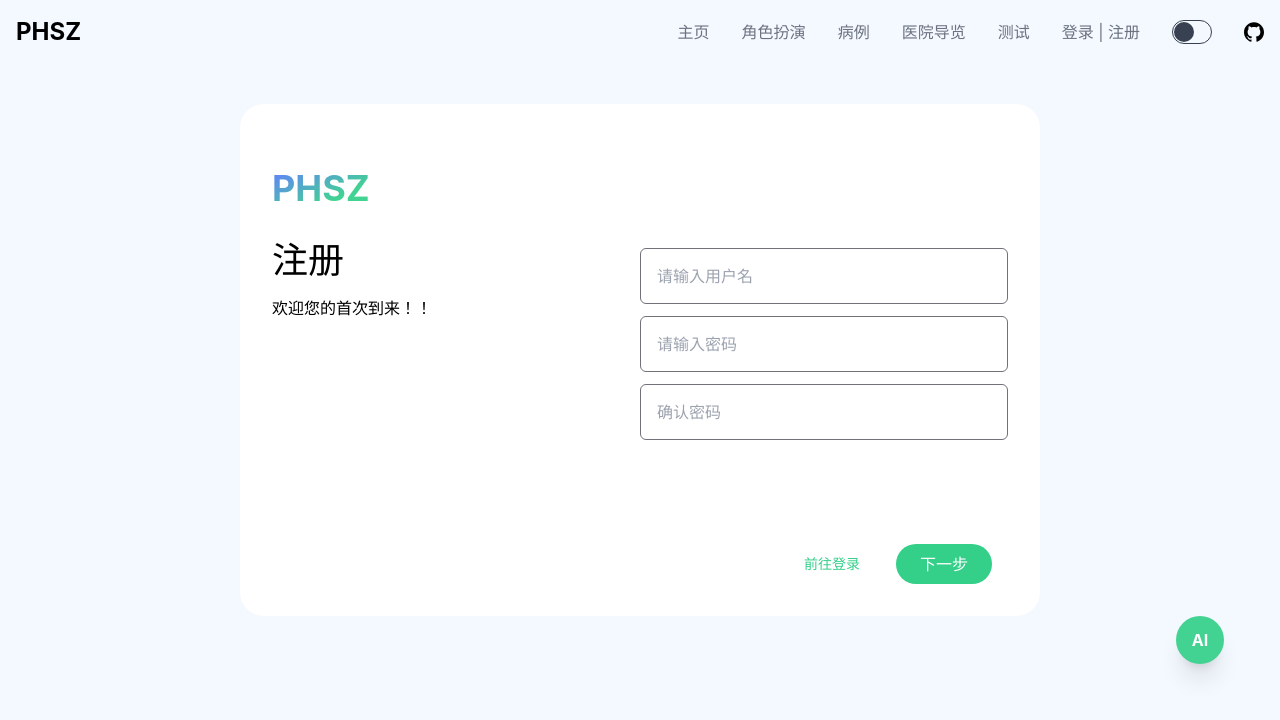
Test case: Register Test › Password not same
The width and height of the screenshot is (1280, 720).
Expected: the link "登录 | 注册" is shown, x1=1062 y1=22 x2=1140 y2=42
Type "admin" into the field with placeholder "请输入用户名" at (824, 276), box x1=640 y1=248 x2=1008 y2=304
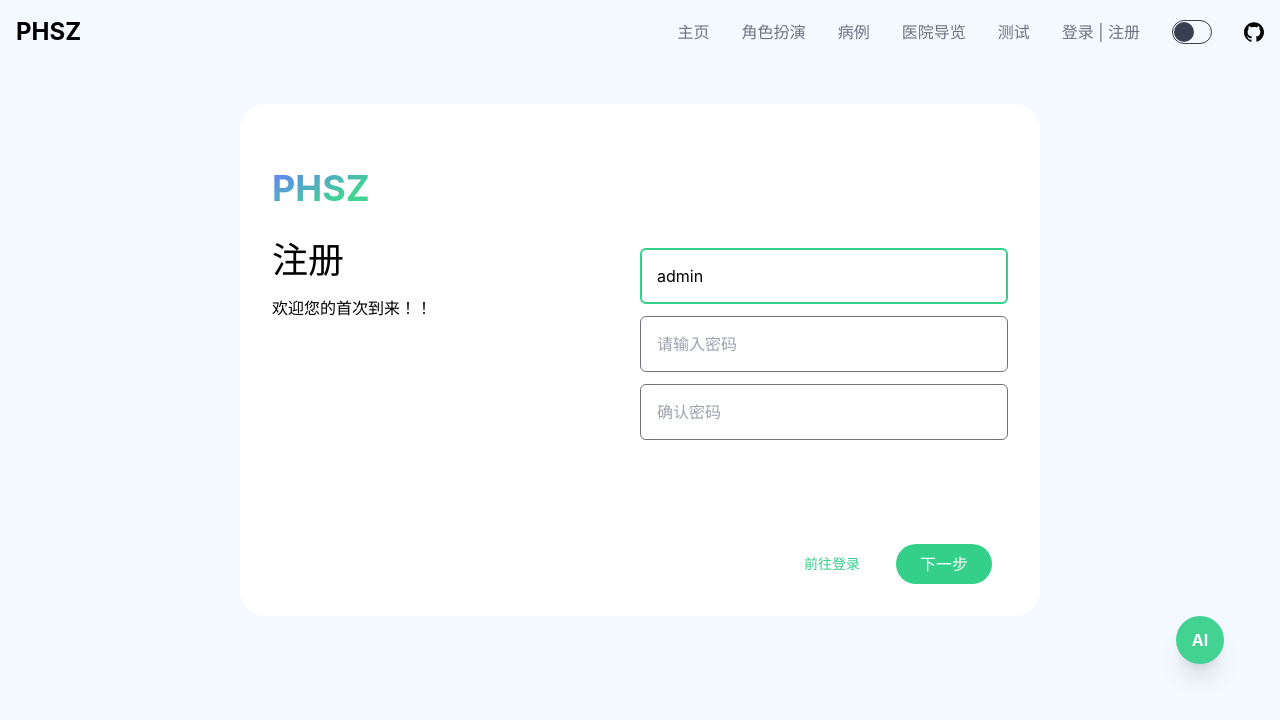
Type "admin" into the password field with placeholder "请输入密码" at (824, 344), box x1=640 y1=316 x2=1008 y2=372
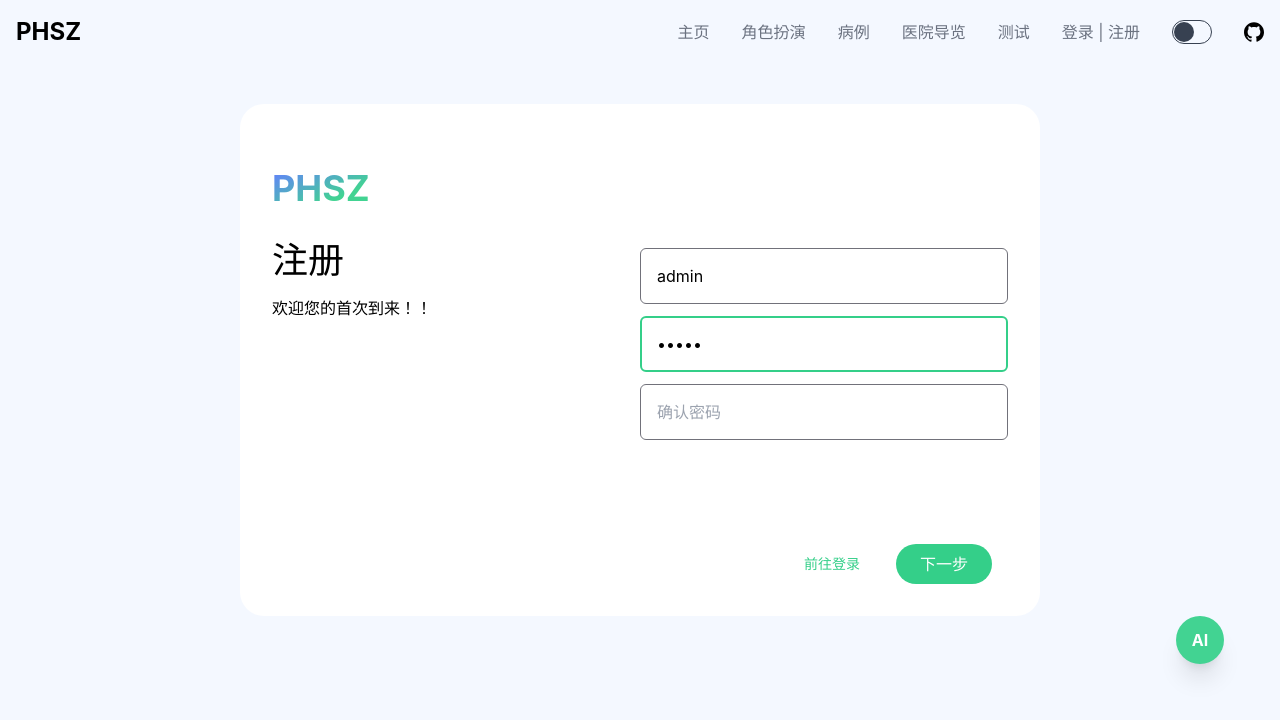
Type "admin1" into the password field with placeholder "确认密码" at (824, 412), box x1=640 y1=384 x2=1008 y2=440
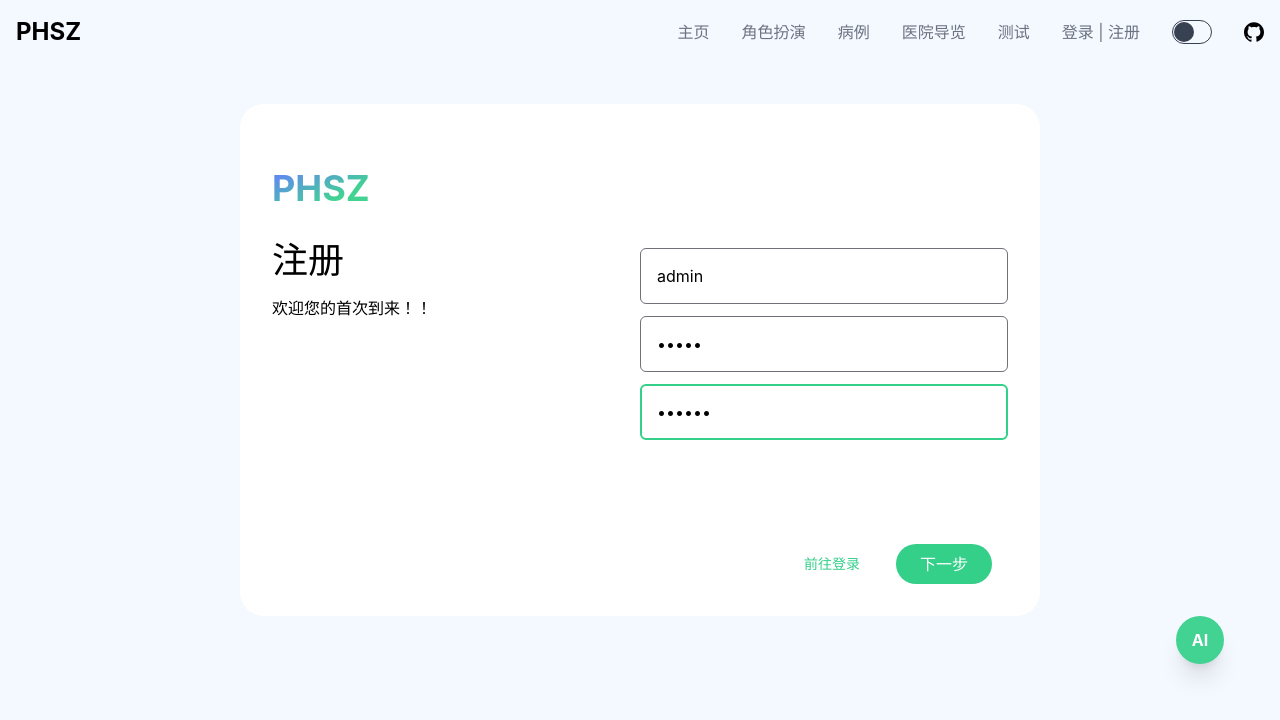
Click the button "下一步" at (944, 564), box x1=896 y1=544 x2=992 y2=584
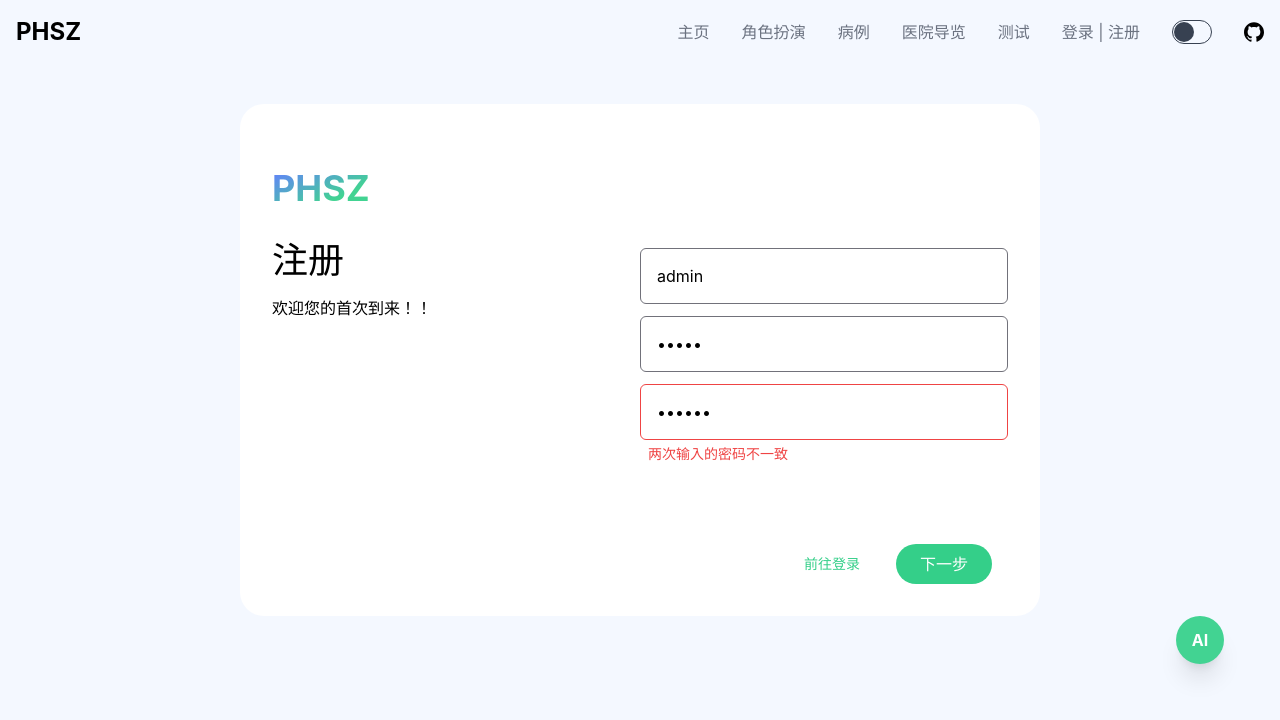
Result: the text "两次输入的密码不一致" is shown at x1=648 y1=445 x2=788 y2=462
